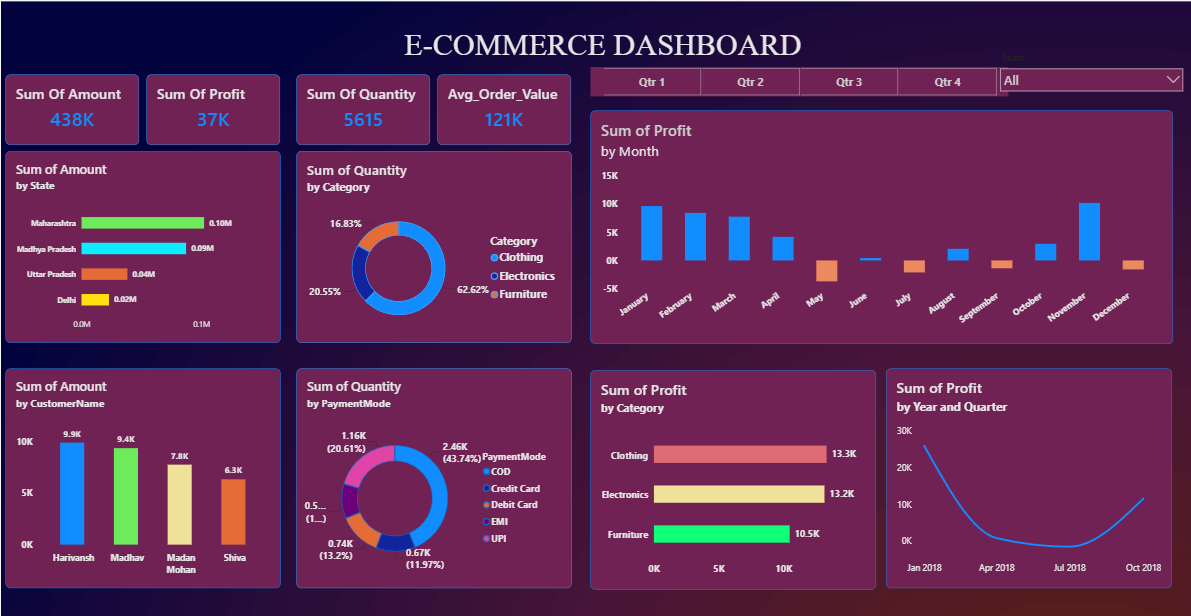

The dashboard page shown, as its layout file describes it:
{"tool":"powerbi","page":{"name":"Page 1","canvas":[1920,1080],"ordinal":0},"visuals":[{"type":"image","box":[9.8,0,1910.4,1007.6],"z":0},{"type":"textbox","box":[9.5,47.7,1911.1,93.1],"z":1000},{"type":"columnChart","fields":{"Category":["Orders.Order Date.Variation.Date Hierarchy.Month"],"Y":["Sum(Details.Profit)"]},"box":[944.2,178.1,924.7,370.9],"z":2000},{"type":"lineChart","fields":{"Category":["Orders.Order Date.Variation.Date Hierarchy.Year","Orders.Order Date.Variation.Date Hierarchy.Quarter"],"Y":["Sum(Details.Profit)"]},"box":[1415.1,588,453.8,348.9],"z":3000},{"type":"clusteredBarChart","fields":{"Category":["Details.Category"],"Y":["Sum(Details.Profit)"]},"box":[944.2,590.4,453,348.9],"z":4000},{"type":"donutChart","fields":{"Series":["Details.Category"],"Y":["Sum(Details.Quantity)"]},"box":[478.2,244,436.7,305],"z":5000},{"type":"donutChart","fields":{"Series":["Details.PaymentMode"],"Y":["Sum(Details.Quantity)"]},"box":[478.2,588,436.7,348.9],"z":6000},{"type":"card","title":"Avg_Order_Value","fields":{"Values":["Sum(Details.Avg_Order Value)"]},"box":[702.7,122,212.3,112.2],"z":7000},{"type":"card","title":"Sum Of Quantity","fields":{"Values":["Sum(Details.Quantity)"]},"box":[478.2,122,212.3,112.2],"z":8000},{"type":"card","title":"Sum Of Amount","fields":{"Values":["Sum(Details.Amount)"]},"box":[17,122,212,112.2],"z":9000},{"type":"card","title":"Sum Of Profit","fields":{"Values":["Sum(Details.Profit)"]},"box":[241.5,122,212.3,112.2],"z":10000},{"type":"columnChart","fields":{"Category":["Orders.CustomerName"],"Y":["Sum(Details.Amount)"]},"box":[17.1,588,436.7,348.9],"z":11000},{"type":"clusteredBarChart","fields":{"Category":["Orders.State"],"Y":["Sum(Details.Amount)"]},"box":[17.1,244,436.7,305],"z":12000},{"type":"slicer","fields":{"Values":["Orders.Order Date.Variation.Date Hierarchy.Quarter"]},"box":[944.2,109.8,663.6,46.4],"z":13000},{"type":"slicer","fields":{"Values":["Orders.State"]},"box":[1590.8,83,300.1,95.2],"z":14000}]}

Visuals, with their boxes on the page's 1920x1080 design canvas (x1, y1, x2, y2). These are canvas units, not pixel positions in the 1191x616 screenshot, which may show the page scaled, cropped or inside an application window:
image: box=[10, 0, 1920, 1008]
textbox: box=[10, 48, 1921, 141]
columnChart - Orders.Order Date.Variation.Date Hierarchy.Month x Sum(Details.Profit): box=[944, 178, 1869, 549]
lineChart - Orders.Order Date.Variation.Date Hierarchy.Year x Orders.Order Date.Variation.Date Hierarchy.Quarter: box=[1415, 588, 1869, 937]
clusteredBarChart - Details.Category x Sum(Details.Profit): box=[944, 590, 1397, 939]
donutChart - Details.Category x Sum(Details.Quantity): box=[478, 244, 915, 549]
donutChart - Details.PaymentMode x Sum(Details.Quantity): box=[478, 588, 915, 937]
"Avg_Order_Value" card: box=[703, 122, 915, 234]
"Sum Of Quantity" card: box=[478, 122, 690, 234]
"Sum Of Amount" card: box=[17, 122, 229, 234]
"Sum Of Profit" card: box=[242, 122, 454, 234]
columnChart - Orders.CustomerName x Sum(Details.Amount): box=[17, 588, 454, 937]
clusteredBarChart - Orders.State x Sum(Details.Amount): box=[17, 244, 454, 549]
slicer - Orders.Order Date.Variation.Date Hierarchy.Quarter: box=[944, 110, 1608, 156]
slicer - Orders.State: box=[1591, 83, 1891, 178]
